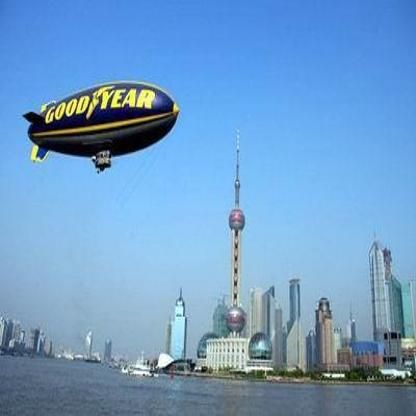Airship: (23, 80, 180, 177)
